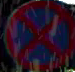No waiting: (3, 1, 72, 69)
